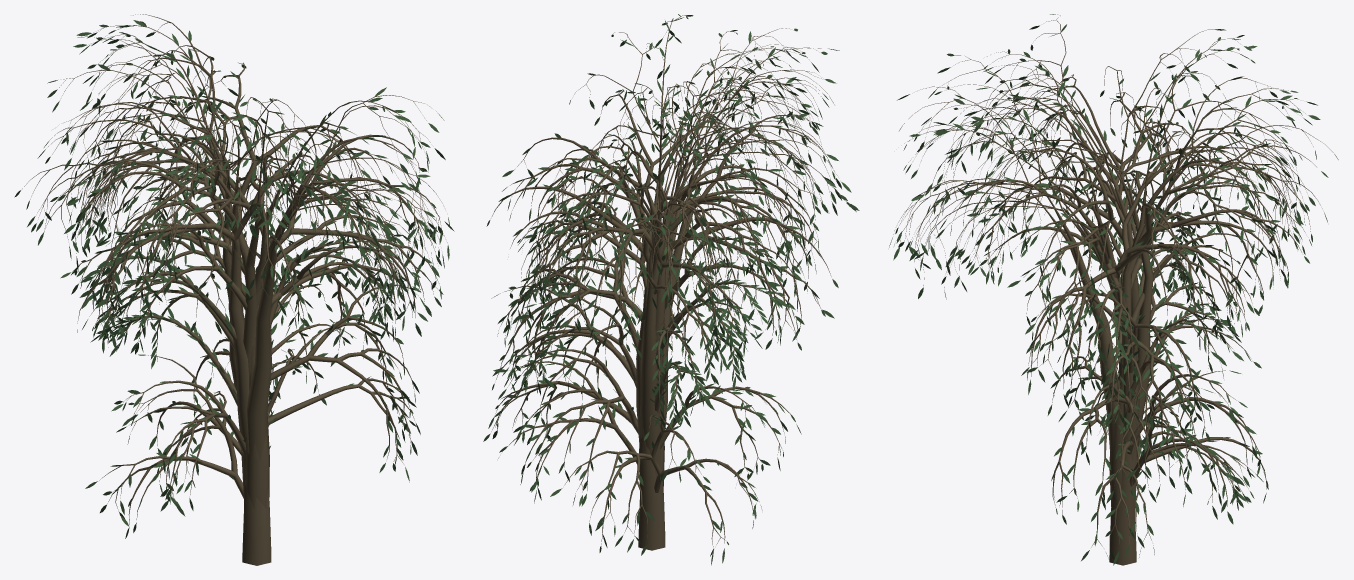
Rendered from Tree_06.fbx.
3 renders of one model, left to right at view 1: azimuth 30°, elevation 25°; view 2: azimuth 150°, elevation 25°; view 3: azimuth 270°, elevation 25°, orthographic. The views are drawn at different scales.
Visible parts, largest first — view 1: Tree_06, leaves_06; view 2: Tree_06, leaves_06; view 3: Tree_06, leaves_06.
Part boxes in pixels (bbox=[...]): Tree_06: bbox=[22, 14, 447, 565]; leaves_06: bbox=[14, 14, 454, 538]; Tree_06: bbox=[491, 15, 843, 550]; leaves_06: bbox=[483, 14, 859, 565]; Tree_06: bbox=[894, 14, 1332, 565]; leaves_06: bbox=[889, 14, 1338, 565].
Size of the model in its own units: 1375 by 1888 by 1593.
